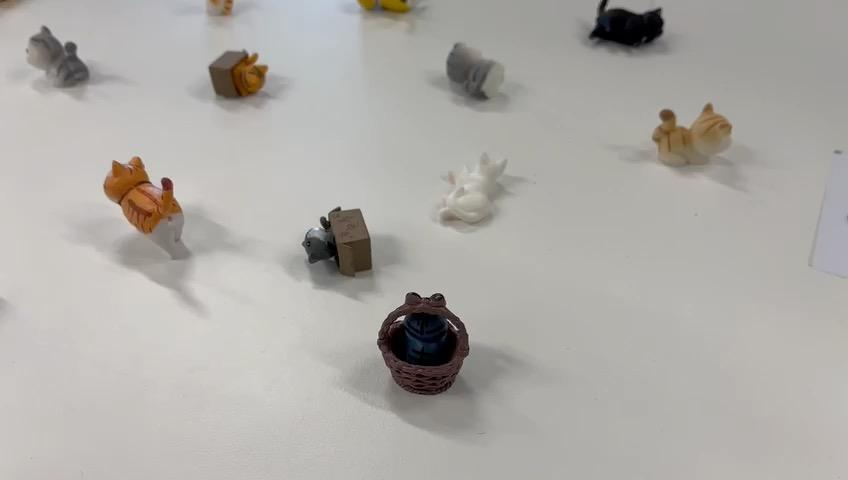pet: (346, 293, 525, 394), (78, 146, 217, 252), (633, 88, 758, 187), (428, 151, 523, 250), (191, 36, 292, 128), (291, 191, 383, 285), (18, 18, 99, 111), (438, 41, 531, 115), (576, 0, 686, 62)
